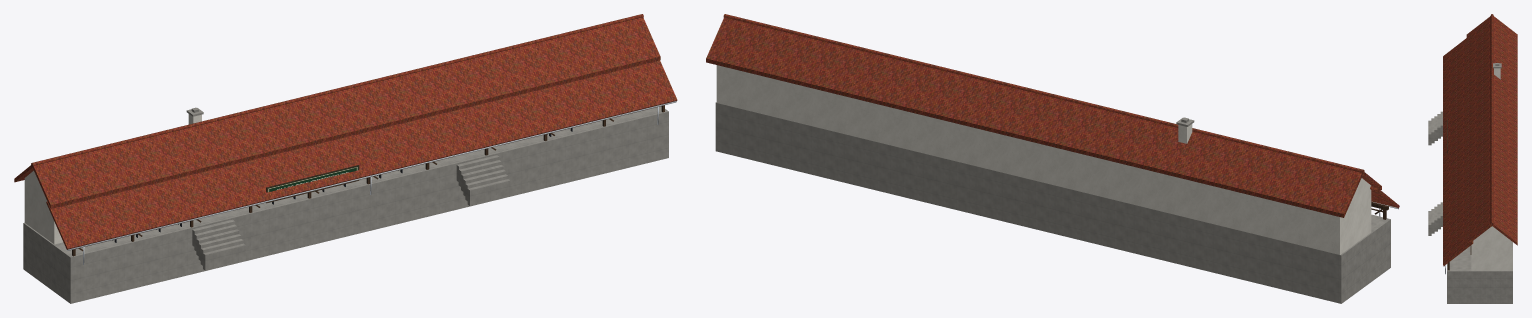
The model's file is sportheim_kindenheim.glb.
The picture shows the model from 3 angles, left to right: view 1: azimuth 30°, elevation 25°; view 2: azimuth 150°, elevation 25°; view 3: azimuth 270°, elevation 25°; orthographic projection. The views are drawn at different scales.
Visible parts, largest first — view 1: Sportheim_roof_clay, Sportheim_concrete_plinth, Sportheim_stucco_cream, Sportheim_galvanized, Sportheim_timber_dark; view 2: Sportheim_roof_clay, Sportheim_concrete_plinth, Sportheim_stucco_cream; view 3: Sportheim_roof_clay, Sportheim_concrete_plinth, Sportheim_stucco_cream, Sportheim_timber_dark.
Boxes of the visible parts, <box> form: Sportheim_roof_clay: <box>14,14,677,249</box>; Sportheim_concrete_plinth: <box>23,106,668,303</box>; Sportheim_stucco_cream: <box>24,114,201,244</box>; Sportheim_galvanized: <box>67,101,676,264</box>; Sportheim_timber_dark: <box>72,105,664,256</box>; Sportheim_roof_clay: <box>706,14,1399,217</box>; Sportheim_concrete_plinth: <box>715,102,1390,303</box>; Sportheim_stucco_cream: <box>716,65,1371,254</box>; Sportheim_roof_clay: <box>1443,14,1517,265</box>; Sportheim_concrete_plinth: <box>1428,63,1512,303</box>; Sportheim_stucco_cream: <box>1471,68,1512,270</box>; Sportheim_timber_dark: <box>1447,118,1471,270</box>.
Bounding box in the file's own units: 48.48 × 9.81 × 8.77.
Materials: 10 (10 with a texture image).
